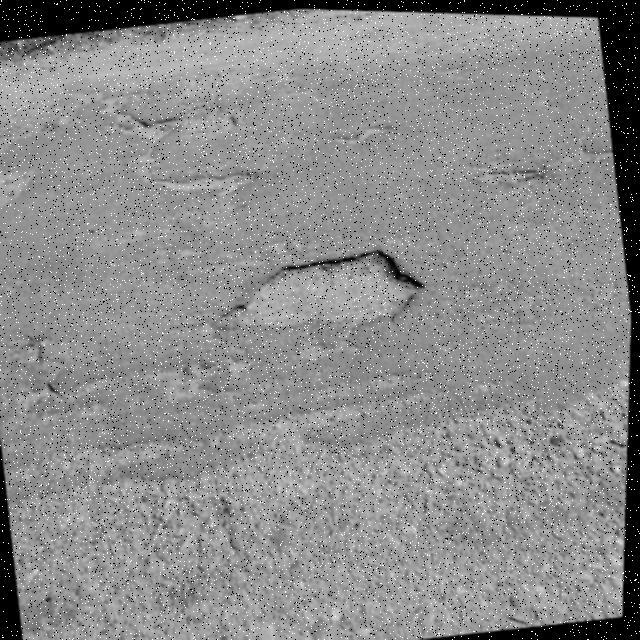pothole: (213, 235, 433, 348), (95, 74, 267, 214)
